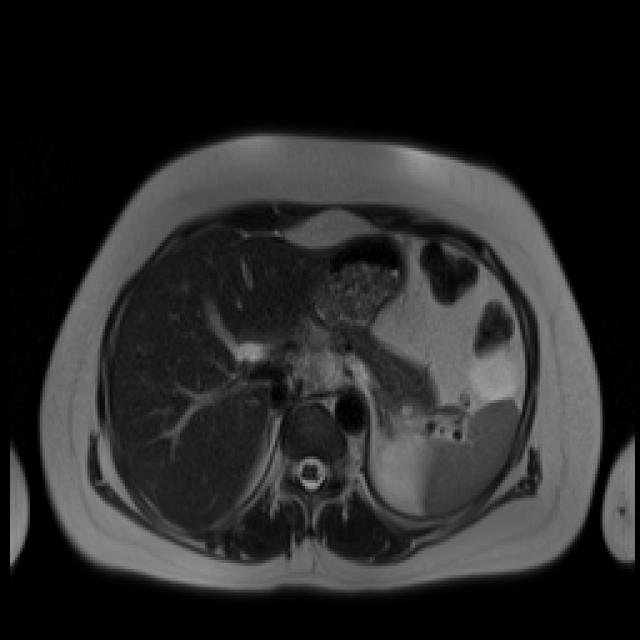sol: (371, 427, 437, 516)
